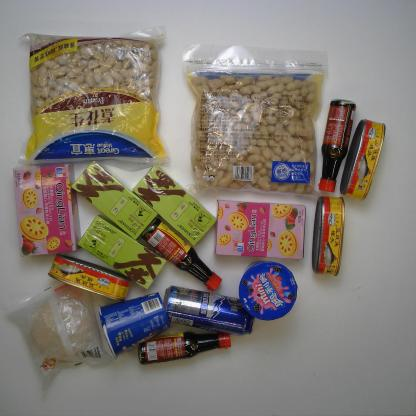Alcohol: (159, 283, 259, 336)
Canned Food: (44, 252, 134, 305), (337, 115, 388, 204), (310, 193, 346, 280)
Dessert: (1, 278, 117, 383), (10, 161, 84, 259), (212, 197, 309, 262), (95, 290, 173, 364), (236, 259, 301, 322)
Dried Food: (177, 41, 332, 203), (13, 23, 174, 175)
Instant Drink: (69, 158, 160, 242), (131, 164, 219, 248), (76, 212, 168, 291)
Seasoner: (138, 214, 224, 292), (316, 95, 358, 195), (134, 329, 234, 366)
